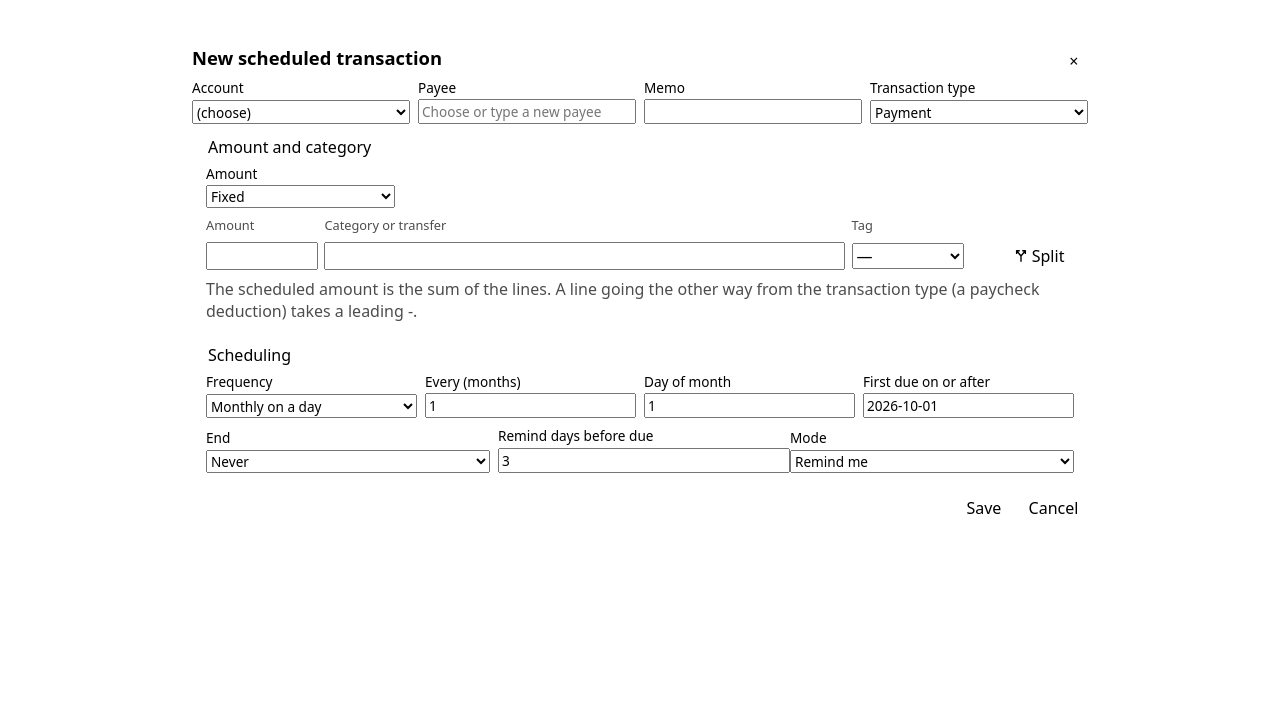
it: ScheduleModal › a split line's amount keeps one leading '-' (paycheck deduction)
Click the button "Split" at (1039, 256), box [1004,243,1074,270]
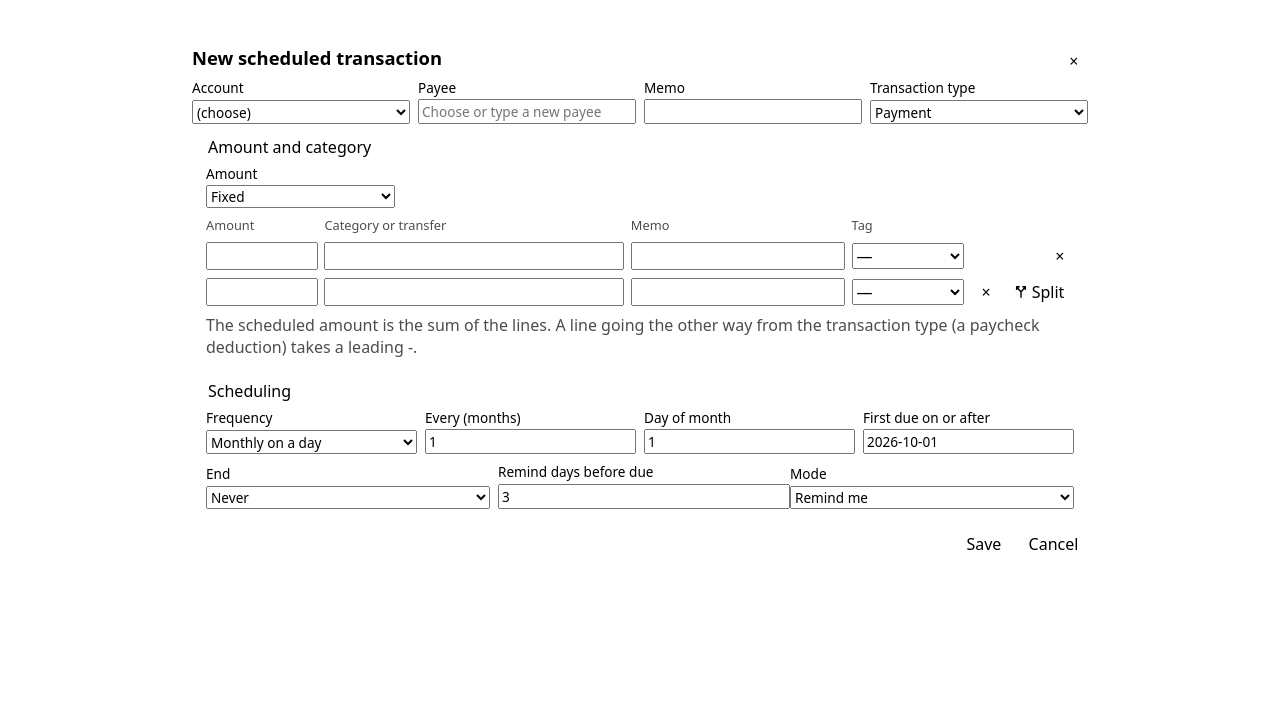
Type "-5-00" into the field named "Line 2 amount" at (262, 292), box [206,278,318,306]
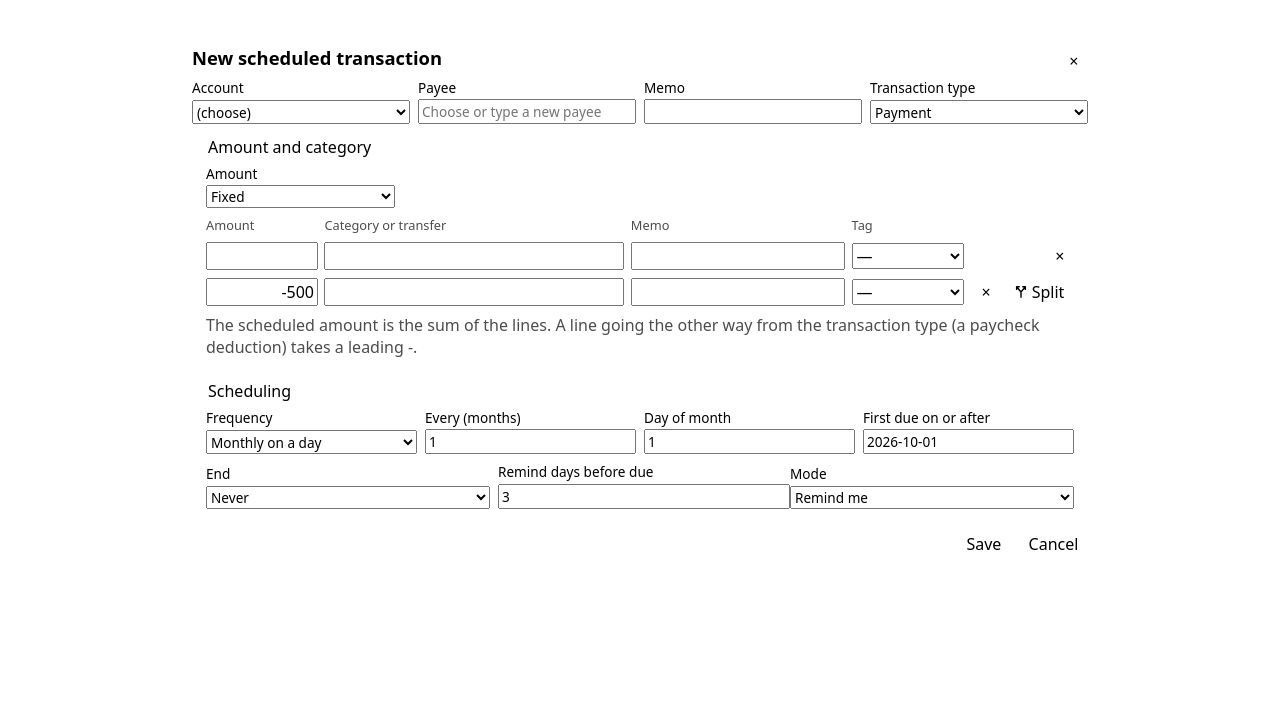
Expected: the field named "Line 2 amount" holds "-500", [206,278,318,306]
